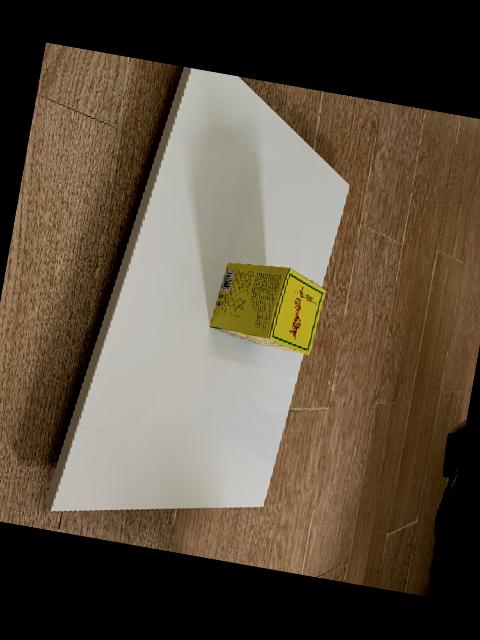luong_kho: (208, 262, 325, 355)
